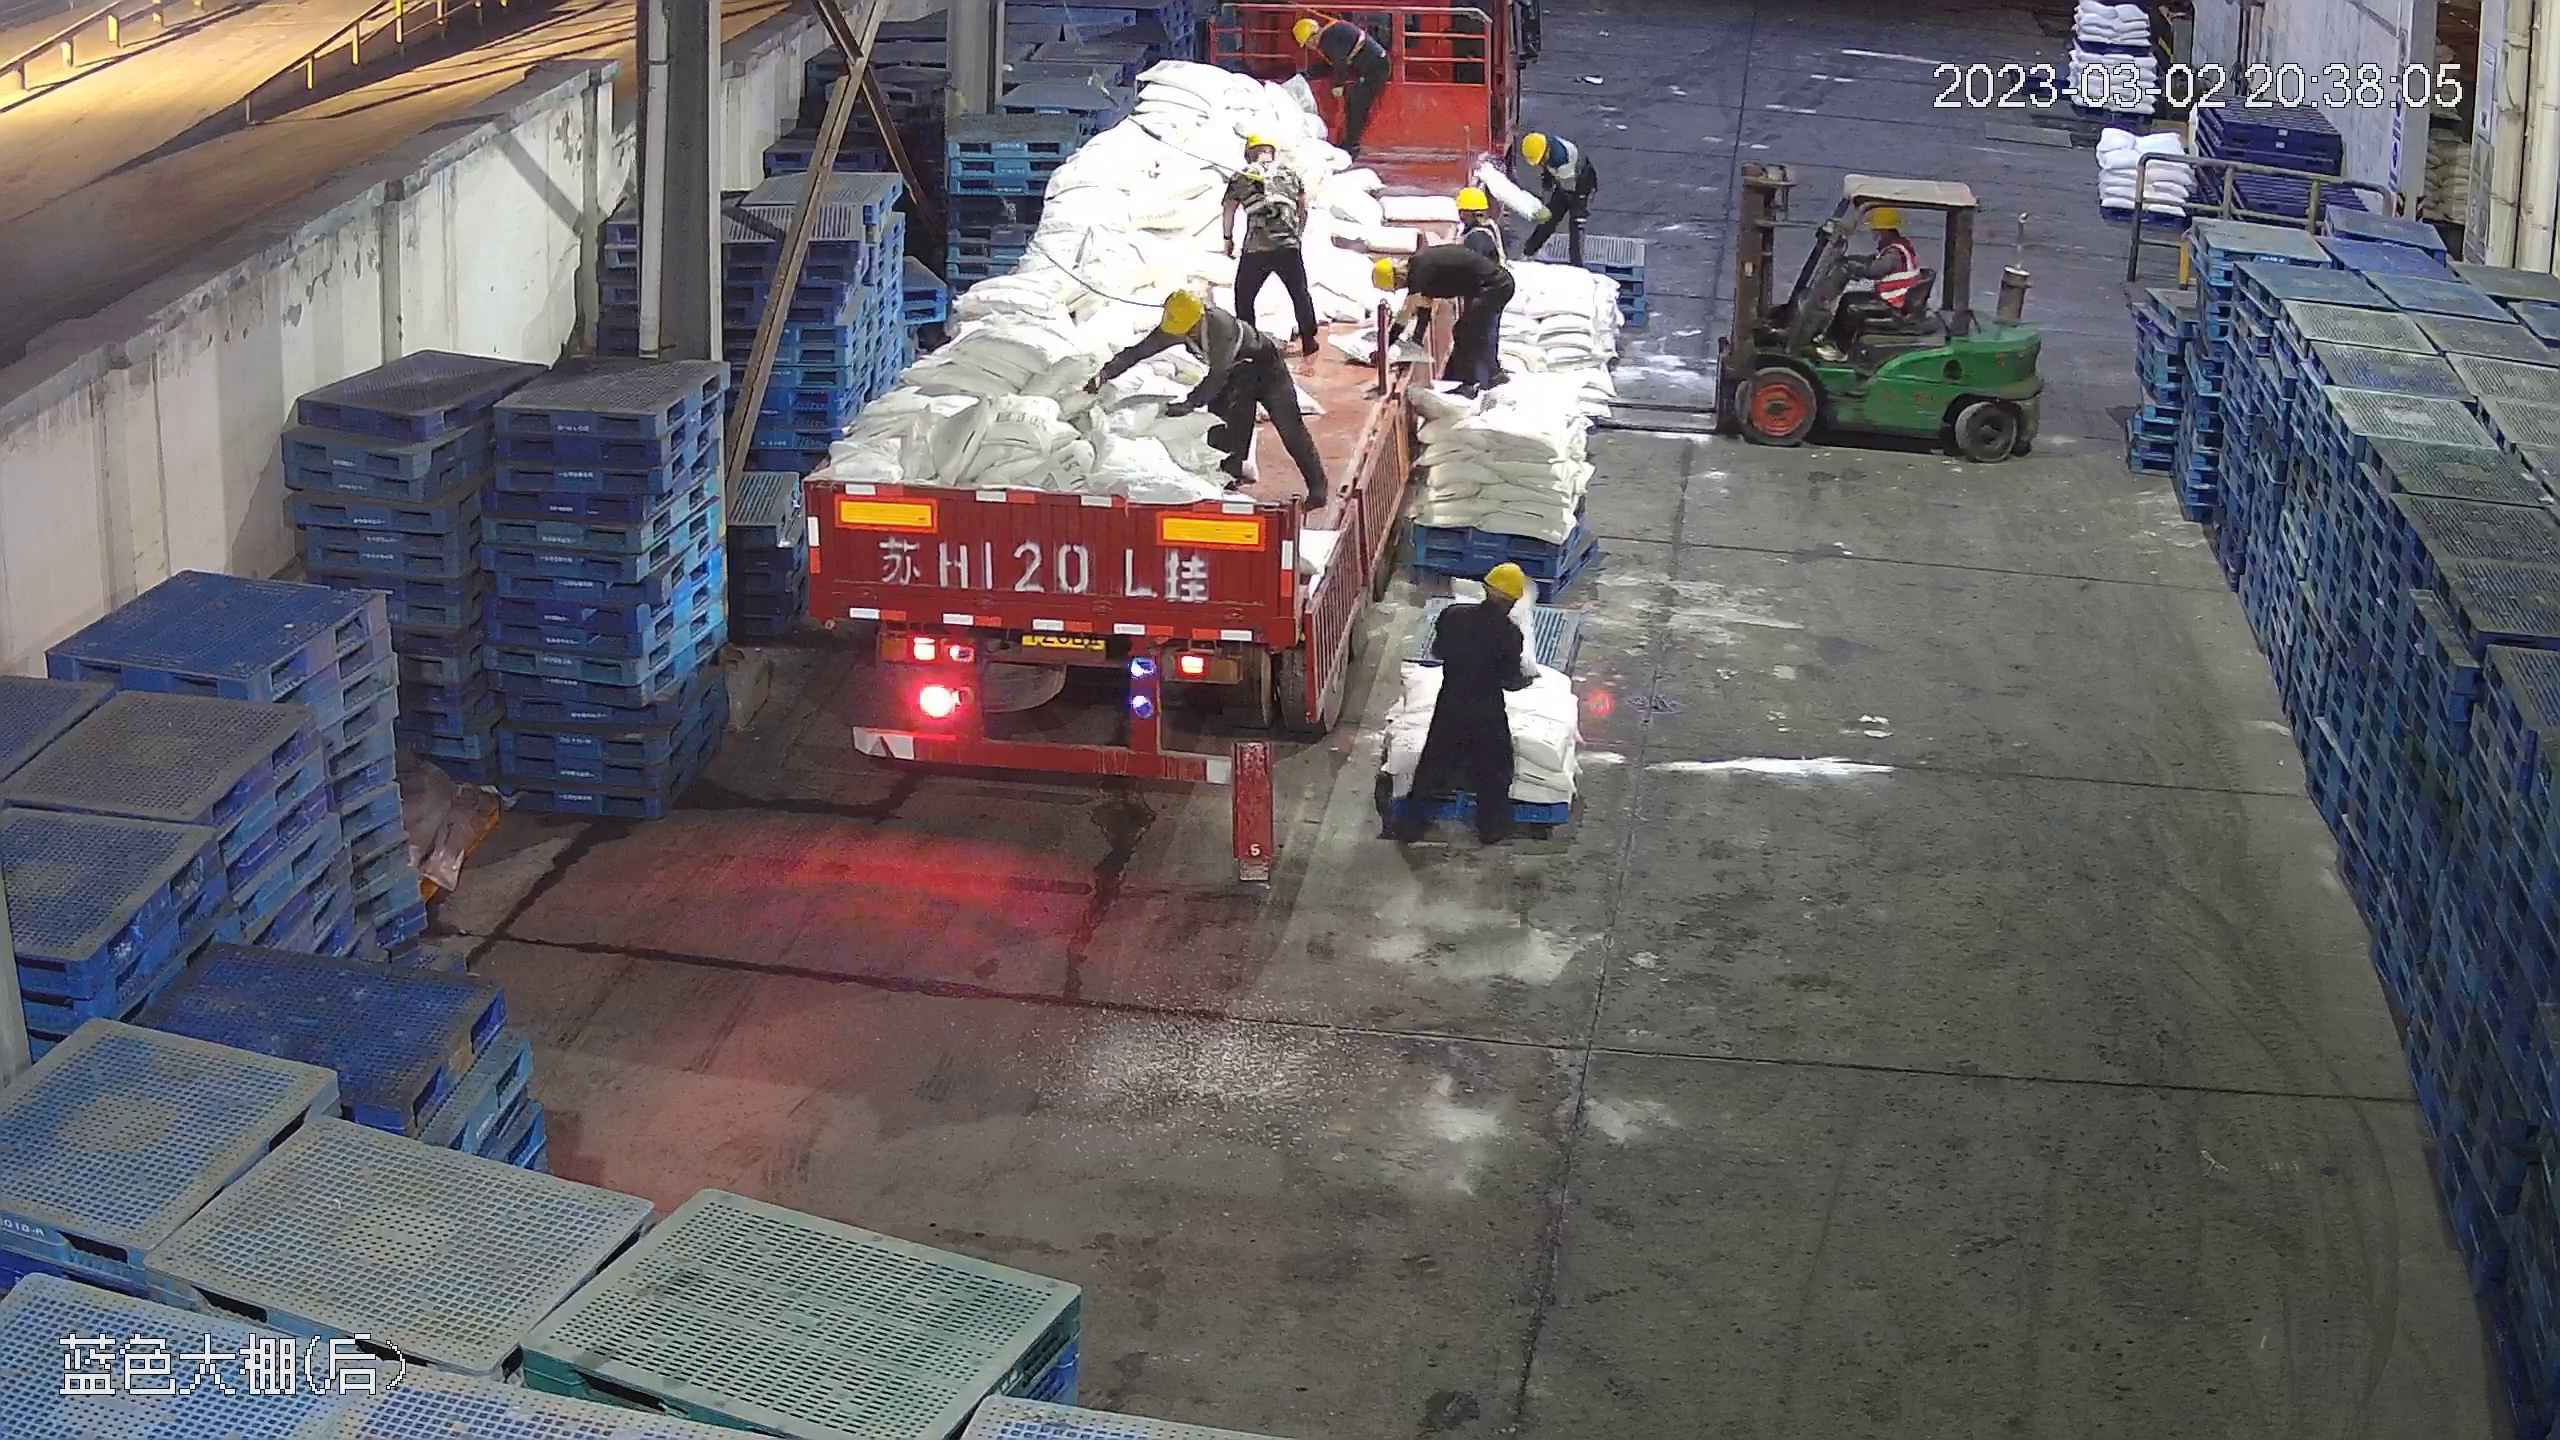belt: (1198, 306, 1259, 372), (1247, 158, 1305, 215), (1312, 17, 1369, 67), (1459, 222, 1508, 269)
head: (1438, 560, 1533, 657), (1152, 287, 1241, 366), (1436, 187, 1509, 260), (1232, 129, 1303, 191), (1368, 247, 1453, 295), (1290, 16, 1353, 66), (1864, 204, 1914, 267), (1518, 128, 1569, 178)
helmet: (1156, 287, 1205, 336), (1482, 560, 1529, 600), (1453, 185, 1492, 215), (1370, 253, 1399, 290), (1518, 131, 1549, 165), (1867, 205, 1901, 230), (1290, 15, 1319, 43), (1242, 130, 1271, 152)
people: (1092, 287, 1327, 510), (1377, 558, 1534, 848), (1370, 211, 1513, 400), (1215, 127, 1322, 353), (1288, 10, 1394, 168), (1504, 127, 1594, 272), (1823, 202, 1919, 340)
truck: (807, 1, 1461, 788)
